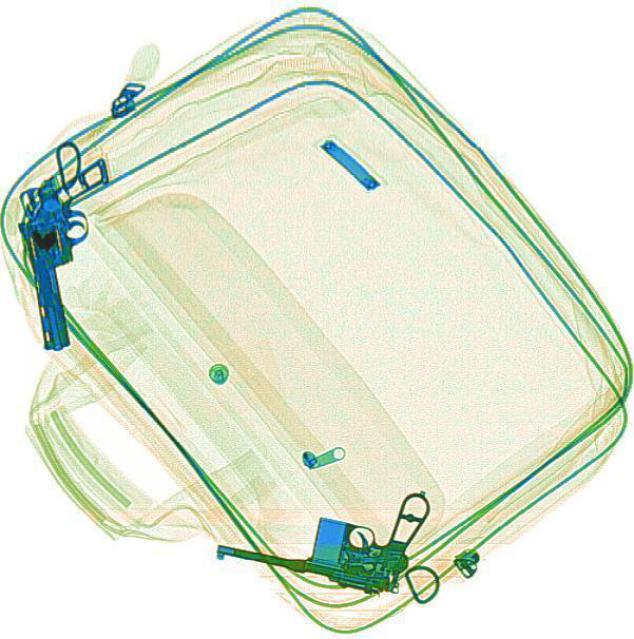Gun: (210, 458, 432, 599), (9, 155, 125, 350)
